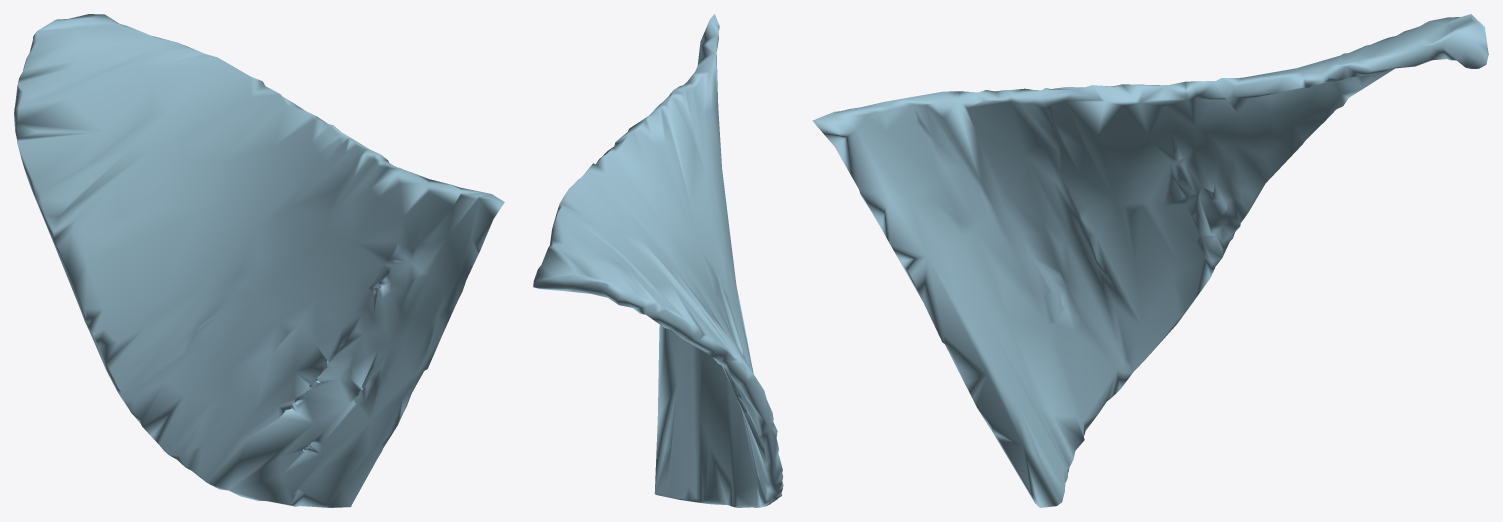
Rendered from articulacoes-cricopharyngeal-ligament-r.glb.
3 views of the same model, side by side, from view 1: azimuth 30°, elevation 25°; view 2: azimuth 150°, elevation 25°; view 3: azimuth 270°, elevation 25° (orthographic). The views are drawn at different scales.
Parts seen in each view (by area): view 1: Cricopharyngeal ligament.r; view 2: Cricopharyngeal ligament.r; view 3: Cricopharyngeal ligament.r.
Boxes of the visible parts, x1,y1,x2,y2 form: Cricopharyngeal ligament.r: (14,14,504,507); Cricopharyngeal ligament.r: (533,14,783,507); Cricopharyngeal ligament.r: (812,14,1488,507).
Size of the model in its own units: 0.00869 by 0.0128 by 0.0181.
